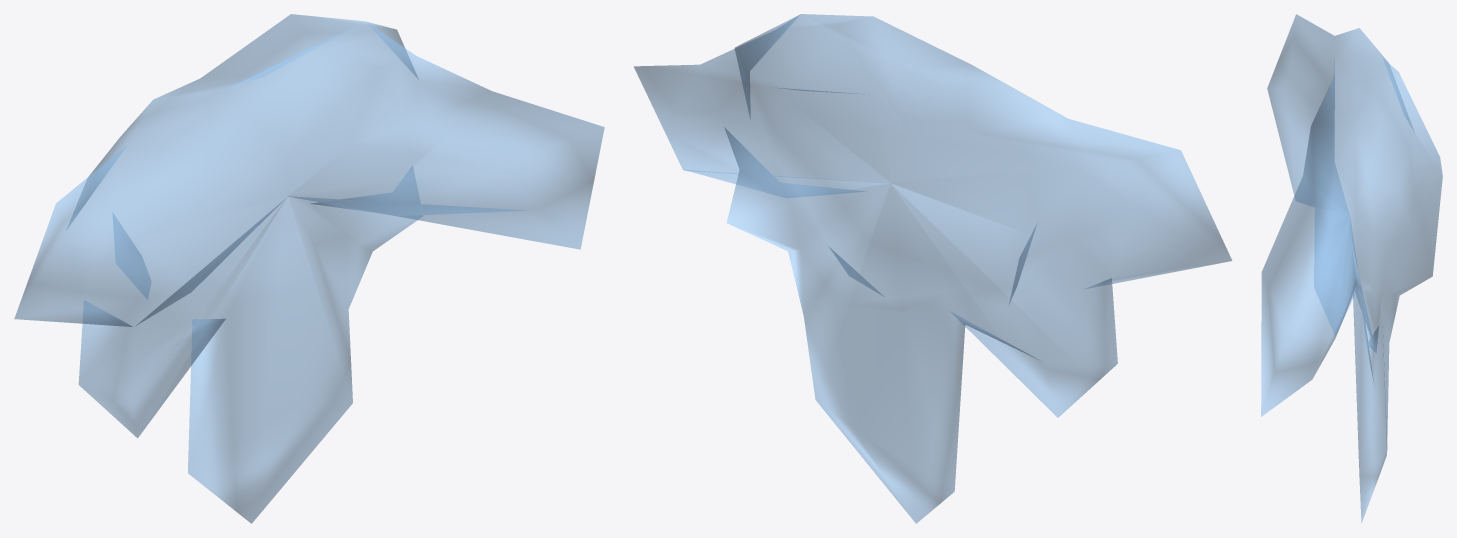
File: taws_shield.gltf
3 renders of one model, left to right at view 1: azimuth 30°, elevation 25°; view 2: azimuth 150°, elevation 25°; view 3: azimuth 270°, elevation 25°, orthographic.
Parts seen in each view (by area): view 1: taws.shield; view 2: taws.shield; view 3: taws.shield.
Part boxes in pixels (x1,y1,x2,y2): taws.shield: (14,14,604,523); taws.shield: (634,14,1231,523); taws.shield: (1261,14,1442,523).
Bounding box in the file's own units: 35.12 × 27.4 × 9.39.
